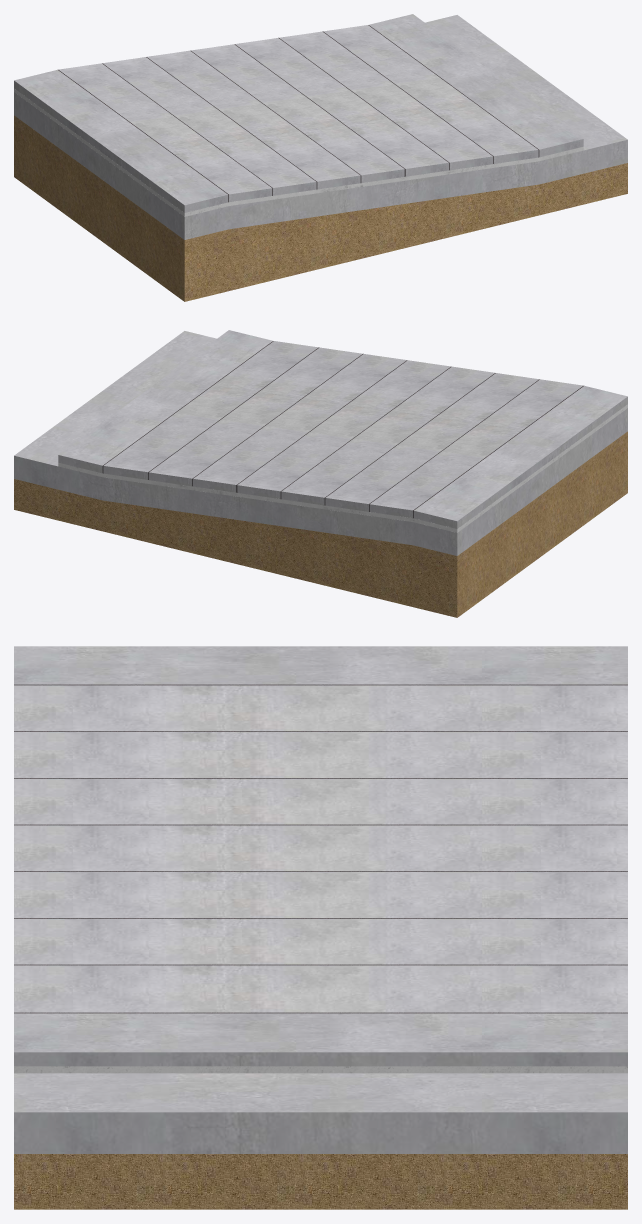
File: ramp-floor-01.glb
3 views of the same model, one above another, from view 1: azimuth 30°, elevation 25°; view 2: azimuth 150°, elevation 25°; view 3: azimuth 270°, elevation 25° (orthographic). The views are drawn at different scales.
Visible parts, largest first — view 1: 水泥方砖, 素土夯实, 150厚c15混凝土, 干硬性水泥砂浆粘结层, 水封缝; view 2: 水泥方砖, 素土夯实, 150厚c15混凝土, 干硬性水泥砂浆粘结层, 水封缝; view 3: 水泥方砖, 150厚c15混凝土, 素土夯实, 水封缝, 干硬性水泥砂浆粘结层.
Part boxes in pixels (x1,y1,x2,y2): 水泥方砖: (14, 14, 583, 212); 素土夯实: (14, 115, 627, 301); 150厚c15混凝土: (14, 15, 627, 239); 干硬性水泥砂浆粘结层: (14, 88, 583, 216); 水封缝: (58, 25, 539, 202); 水泥方砖: (58, 330, 627, 528); 素土夯实: (14, 431, 627, 617); 150厚c15混凝土: (14, 331, 627, 555); 干硬性水泥砂浆粘结层: (58, 404, 627, 532); 水封缝: (102, 341, 583, 518); 水泥方砖: (14, 646, 627, 1066); 150厚c15混凝土: (14, 1073, 627, 1153); 素土夯实: (14, 1154, 627, 1209); 水封缝: (14, 684, 627, 1013); 干硬性水泥砂浆粘结层: (14, 1066, 627, 1073).
Size of the model in its own units: 3 by 0.625 by 2.
5 materials, 5 textured.
